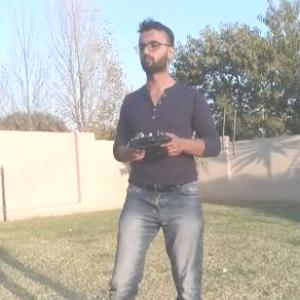follow: (105, 16, 226, 299)
